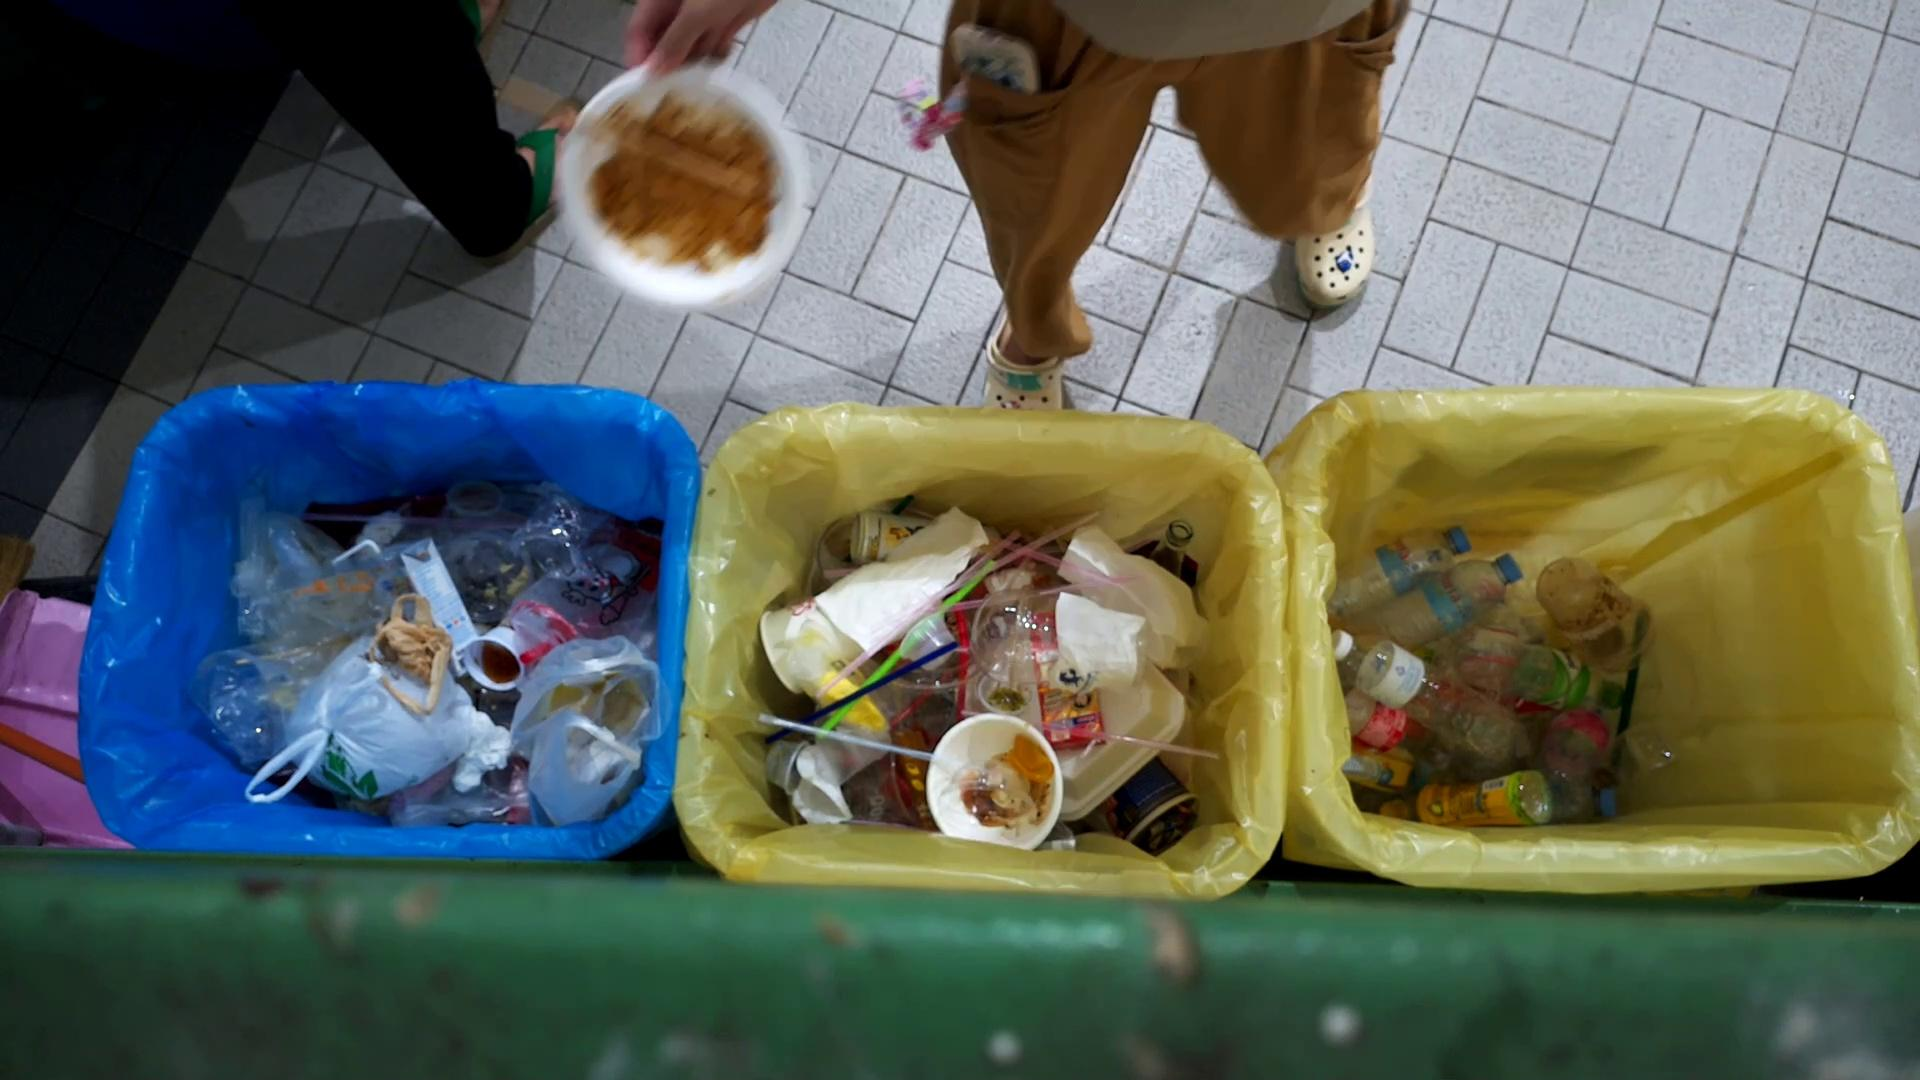filled plastic bag: (240, 634, 479, 810), (513, 634, 661, 827)
food container: (555, 59, 808, 309), (928, 712, 1062, 849), (462, 626, 525, 691)
milk carton: (377, 535, 480, 663)
plastic bottle: (1329, 625, 1526, 758), (1354, 545, 1528, 647), (1441, 624, 1631, 717), (1327, 518, 1476, 620), (1381, 766, 1560, 824)
plastic cup: (973, 587, 1153, 696), (1538, 555, 1662, 676), (935, 756, 1033, 832)
straw: (816, 521, 1015, 709), (814, 559, 994, 742), (758, 640, 960, 748), (1017, 715, 1226, 756), (760, 715, 930, 757), (942, 575, 1149, 609)
tissue paper: (1047, 591, 1146, 694), (450, 704, 513, 795)
